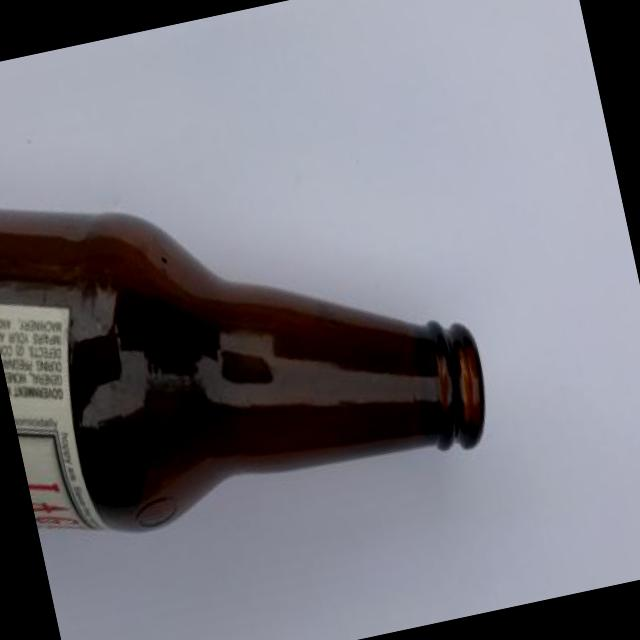chai_thuy_tinh: (0, 225, 486, 530)
